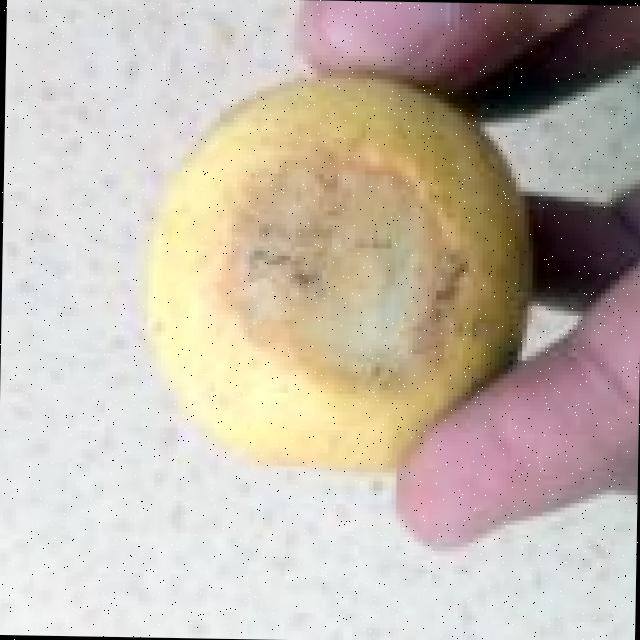Bad_Lime-0-1-day: (145, 74, 531, 477)
